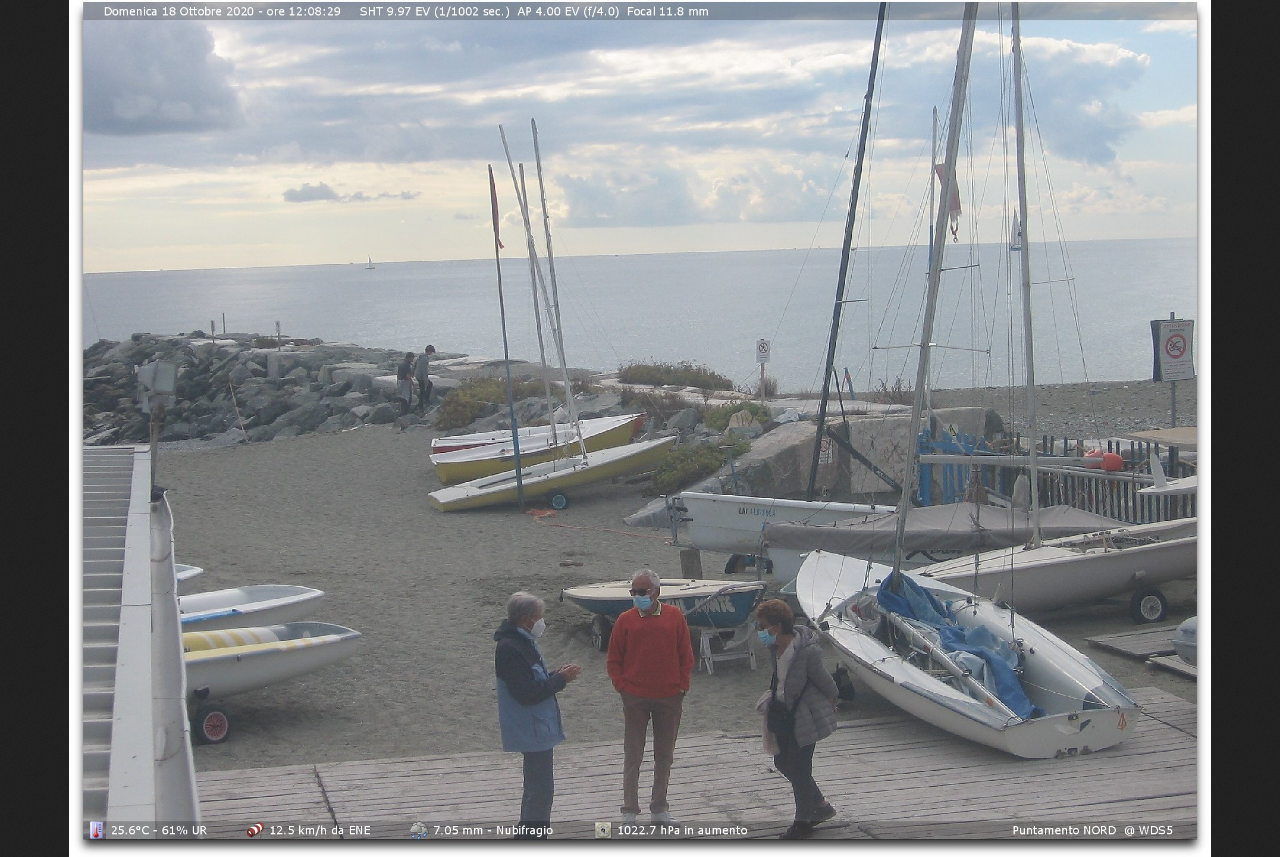no: (484, 164, 509, 250)
